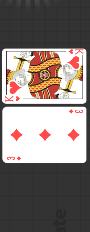3D: (5, 156, 22, 162)
KH: (4, 95, 21, 103)
